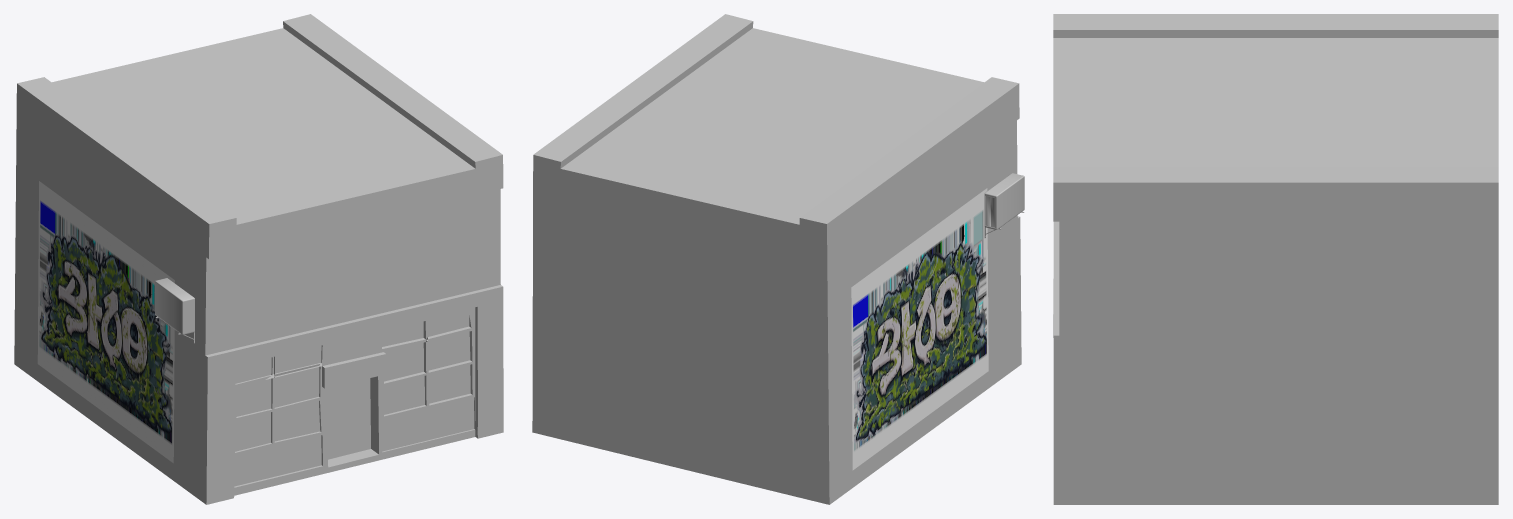
File: Buildering.fbx
3 renders of one model, left to right at view 1: azimuth 30°, elevation 25°; view 2: azimuth 150°, elevation 25°; view 3: azimuth 270°, elevation 25°, orthographic. The views are drawn at different scales.
Parts seen in each view (by area): view 1: Building4; view 2: Building4; view 3: Building4.
Boxes of the visible parts, <box> form: Building4: <box>14,14,503,504</box>; Building4: <box>532,14,1024,504</box>; Building4: <box>1053,14,1498,504</box>.
Bounding box in the file's own units: 859 × 737 × 916.
